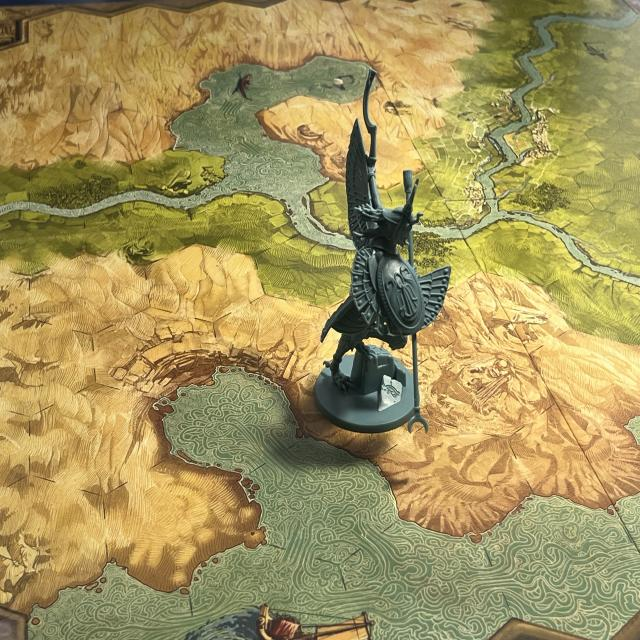isis: (310, 63, 461, 439)
